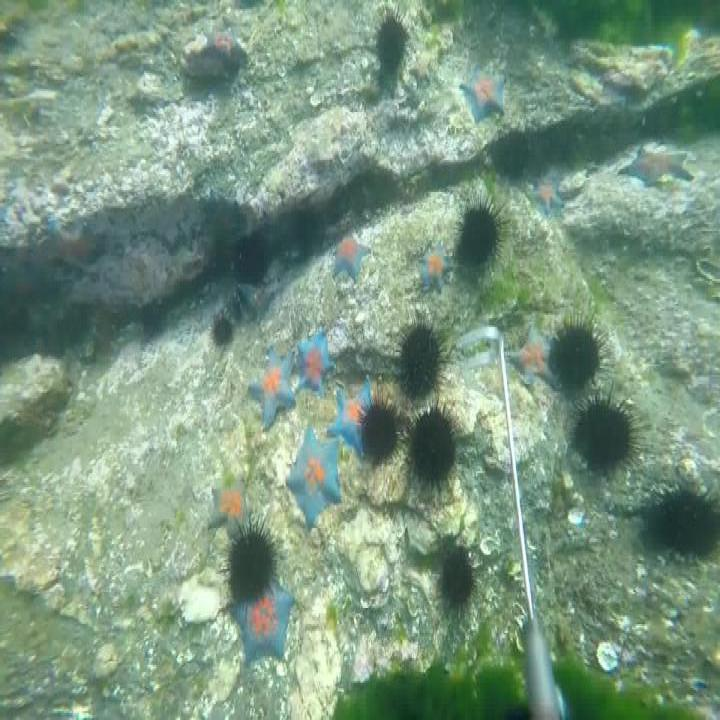echinus: (554, 302, 606, 397), (646, 484, 720, 550), (401, 406, 457, 492), (565, 400, 637, 464), (222, 521, 276, 606), (392, 315, 443, 400), (454, 190, 504, 270), (357, 395, 399, 464), (373, 5, 410, 82), (440, 551, 475, 619), (235, 233, 264, 284), (138, 297, 163, 339), (210, 310, 232, 348)
scallop: (596, 638, 619, 672)
starfish: (284, 432, 339, 524), (236, 581, 292, 665), (250, 336, 292, 432), (457, 60, 507, 134), (620, 139, 688, 190), (336, 375, 373, 455), (299, 326, 331, 397), (206, 474, 240, 530), (512, 331, 549, 382), (334, 228, 370, 279), (418, 246, 447, 294), (532, 171, 558, 213)
